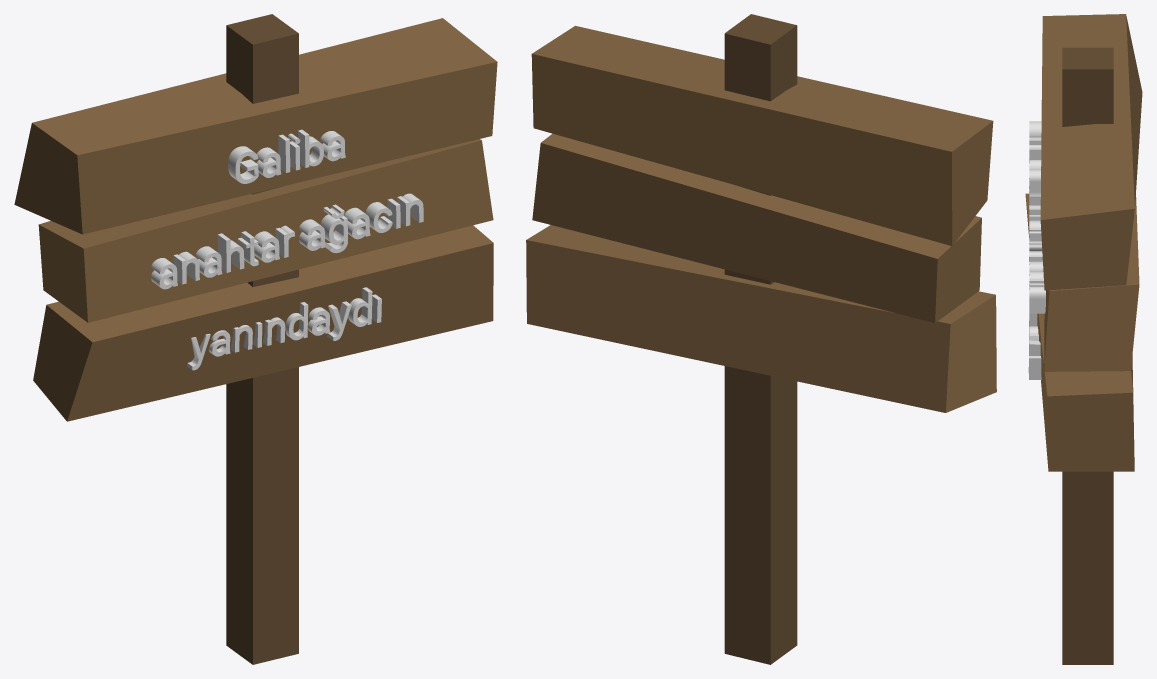
The model's file is signanahtar.fbx.
The picture shows the model from 3 angles, left to right: view 1: azimuth 30°, elevation 25°; view 2: azimuth 150°, elevation 25°; view 3: azimuth 270°, elevation 25°; orthographic projection. The views are drawn at different scales.
Parts seen in each view (by area): view 1: Cube.001, Cube.003, Cube.002, Cube, Text; view 2: Cube.001, Cube.003, Cube.002, Cube; view 3: Cube.001, Cube, Cube.003, Cube.002, Text.
Part boxes in pixels (x1,y1,x2,y2): Cube.001: [14, 18, 497, 234]; Cube.003: [33, 225, 493, 421]; Cube.002: [38, 139, 493, 322]; Cube: [226, 14, 298, 664]; Text: [151, 129, 423, 370]; Cube.001: [531, 25, 993, 245]; Cube.003: [526, 225, 996, 412]; Cube.002: [532, 133, 981, 322]; Cube: [724, 14, 797, 664]; Cube.001: [1040, 14, 1142, 290]; Cube: [1062, 47, 1113, 664]; Cube.003: [1025, 193, 1134, 471]; Cube.002: [1044, 195, 1139, 371]; Text: [1028, 121, 1045, 379].
Size of the model in its own units: 198 by 272 by 48.44.
